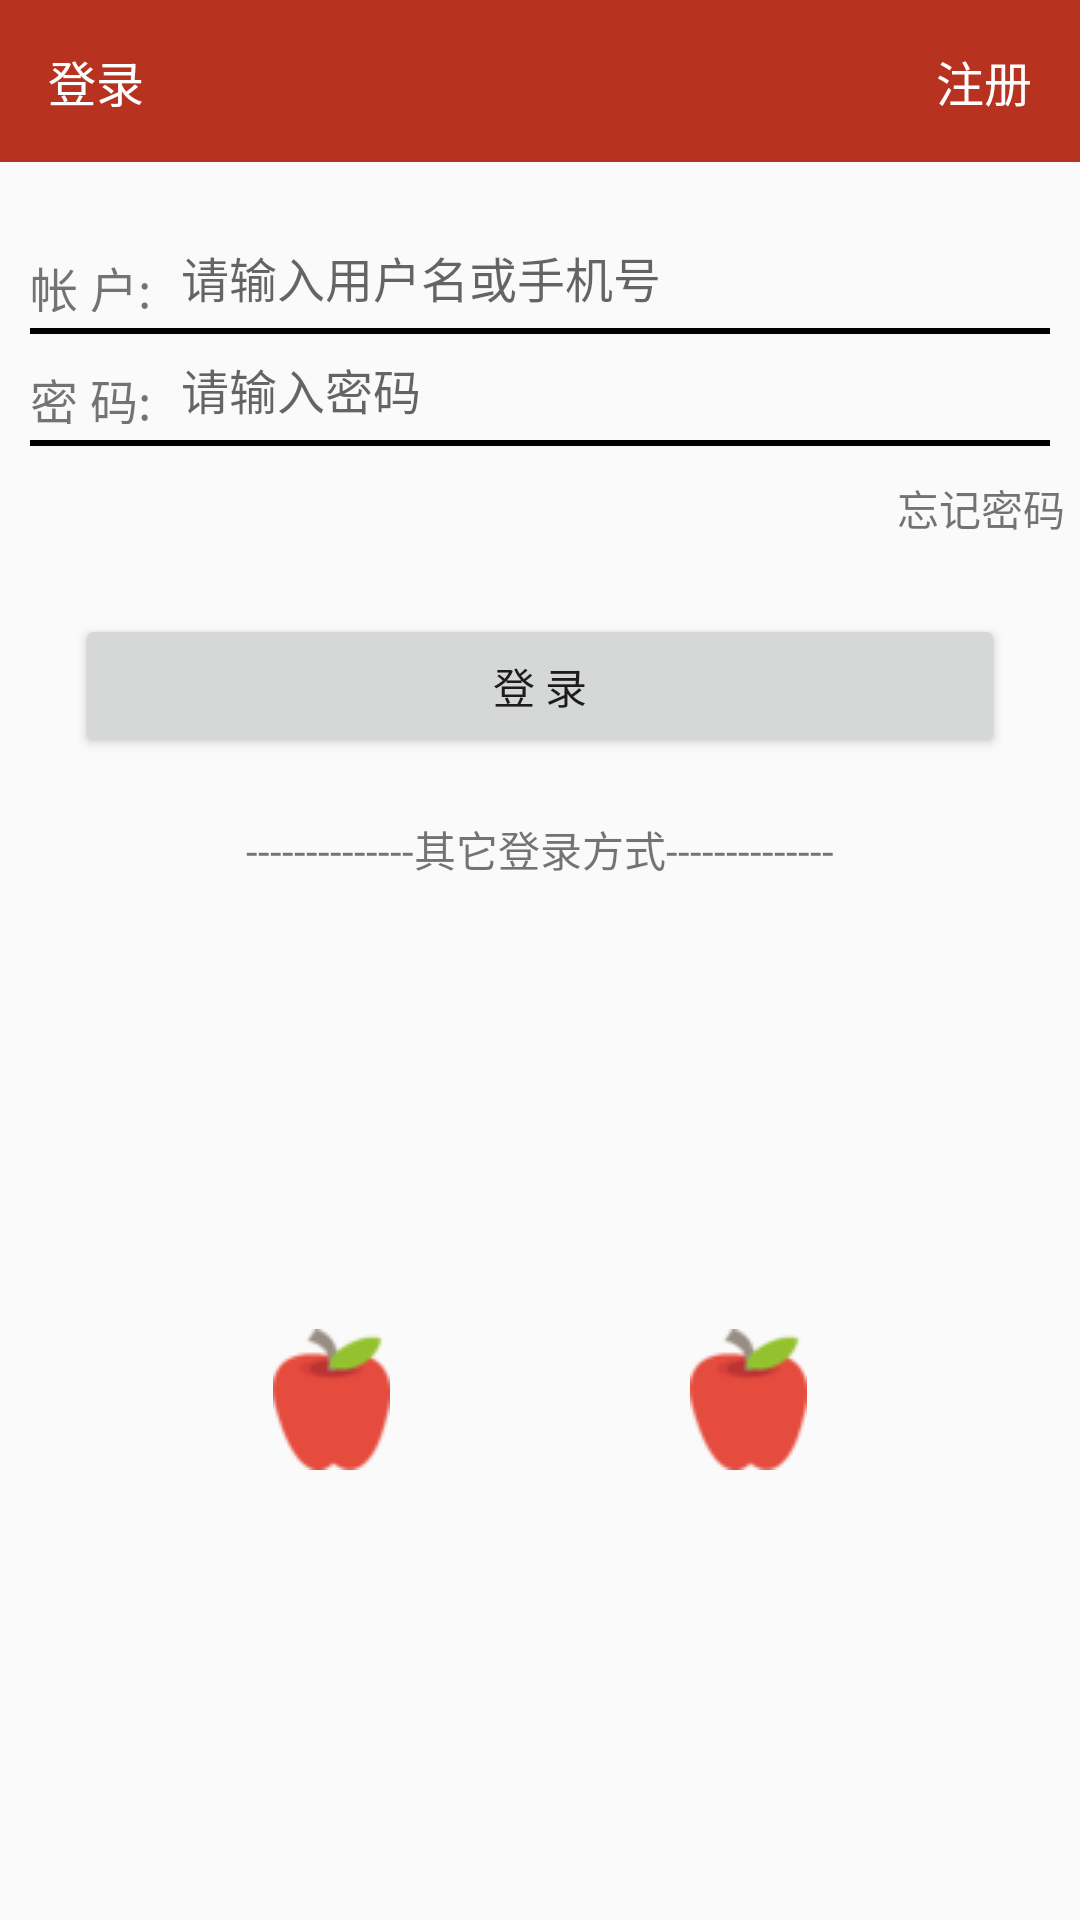

Where icons sit on this 1080px×1920px app screen, as (x1, y1, x2, y2):
apple: (273, 1329, 390, 1470), (690, 1329, 807, 1470)
